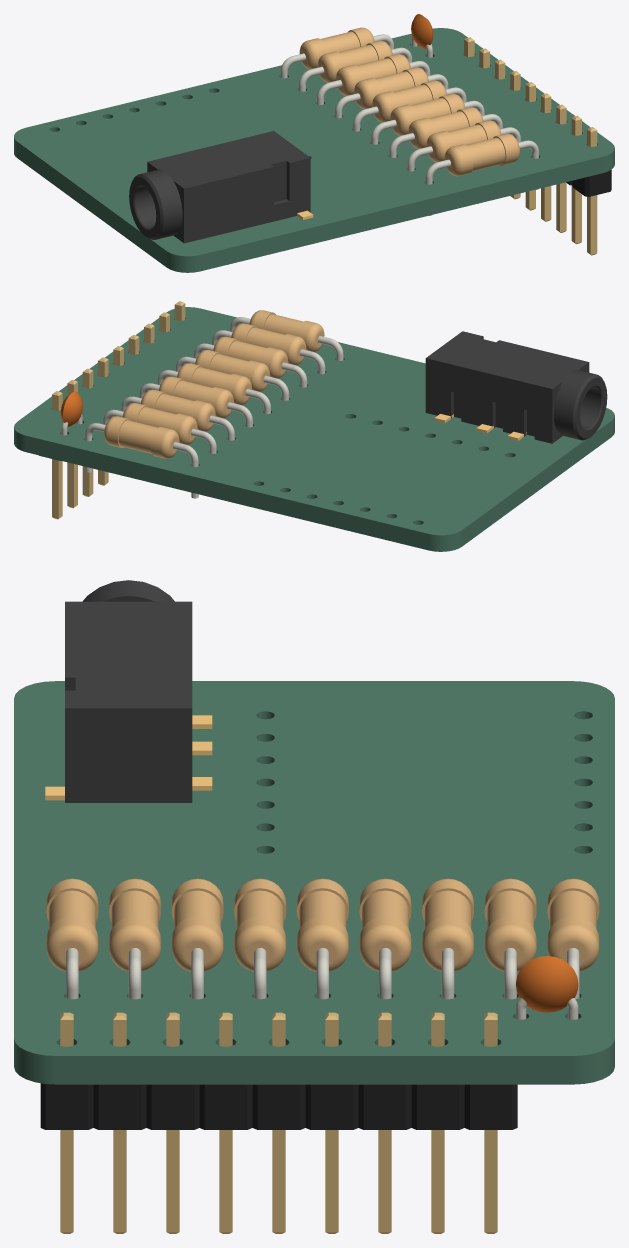
File: C5VRX_JACK_DIY_V2.glb
3 renders of one model, top to bottom at view 1: azimuth 30°, elevation 25°; view 2: azimuth 150°, elevation 25°; view 3: azimuth 270°, elevation 25°, orthographic. The views are drawn at different scales.
Visible parts, largest first — view 1: =>[0:1:1:11], =>[0:1:1:3] (×9), NAUO1, =>[0:1:1:10], =>[0:1:1:8]; view 2: =>[0:1:1:11], =>[0:1:1:3] (×9), NAUO1, =>[0:1:1:10], =>[0:1:1:8]; view 3: =>[0:1:1:11], =>[0:1:1:3] (×9), =>[0:1:1:10], NAUO1, =>[0:1:1:8].
Part boxes in pixels (x1=…): =>[0:1:1:11]: x1=14, y1=28, x2=614, y2=272; =>[0:1:1:3] (×9): x1=280, y1=27, x2=538, y2=215; NAUO1: x1=129, y1=131, x2=313, y2=243; =>[0:1:1:10]: x1=464, y1=37, x2=611, y2=255; =>[0:1:1:8]: x1=411, y1=14, x2=433, y2=57; =>[0:1:1:11]: x1=14, y1=307, x2=614, y2=551; =>[0:1:1:3] (×9): x1=85, y1=310, x2=343, y2=498; NAUO1: x1=425, y1=331, x2=607, y2=443; =>[0:1:1:10]: x1=39, y1=301, x2=185, y2=519; =>[0:1:1:8]: x1=60, y1=391, x2=82, y2=435; =>[0:1:1:11]: x1=14, y1=681, x2=614, y2=1084; =>[0:1:1:3] (×9): x1=46, y1=878, x2=599, y2=999; =>[0:1:1:10]: x1=40, y1=1012, x2=517, y2=1233; NAUO1: x1=45, y1=580, x2=212, y2=802; =>[0:1:1:8]: x1=516, y1=956, x2=578, y2=1019.
Size of the model in its own units: 0.0426 by 0.0154 by 0.0288.
